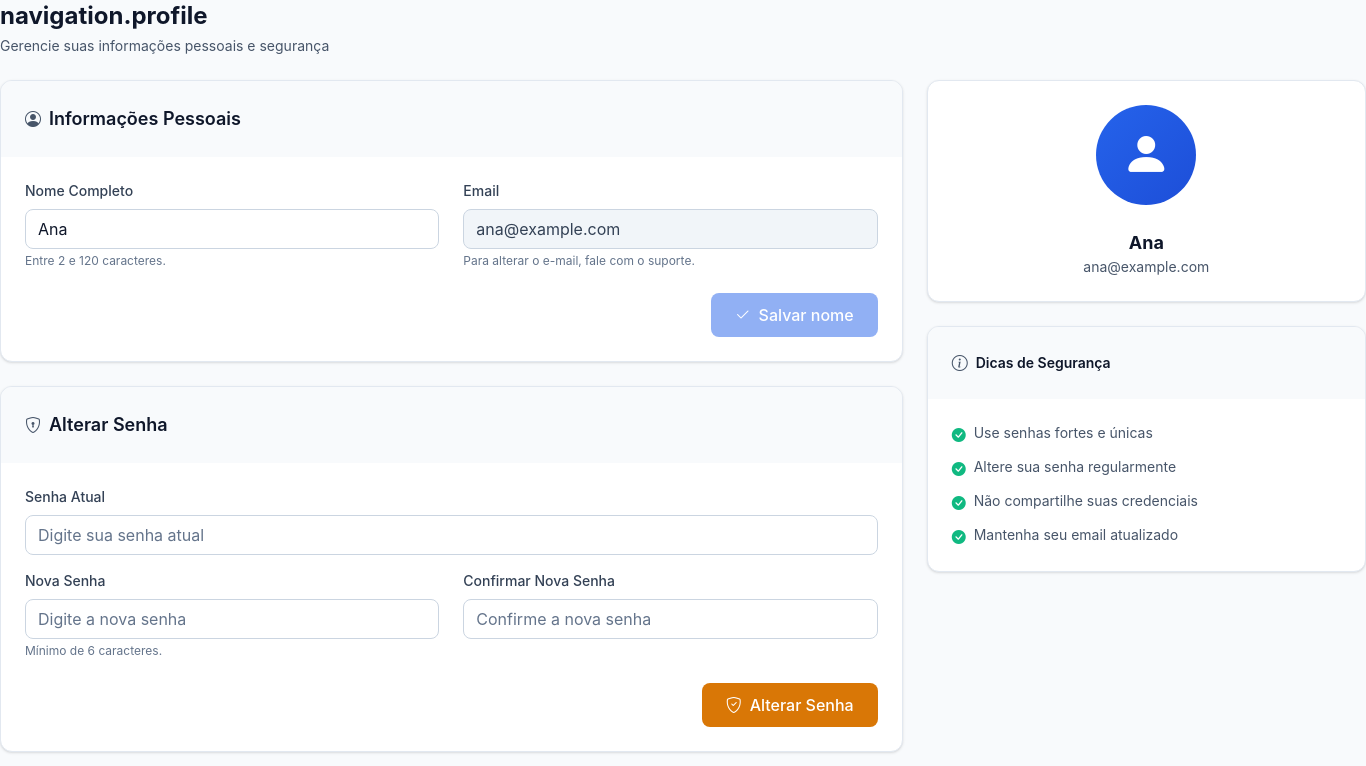
it: Profile › salva o nome e mostra sucesso só após a resposta da API
Replace the text in the field labelled "Nome Completo" with "  Ana Souza " at (232, 229), box top-left (25, 209), bottom-right (439, 249)
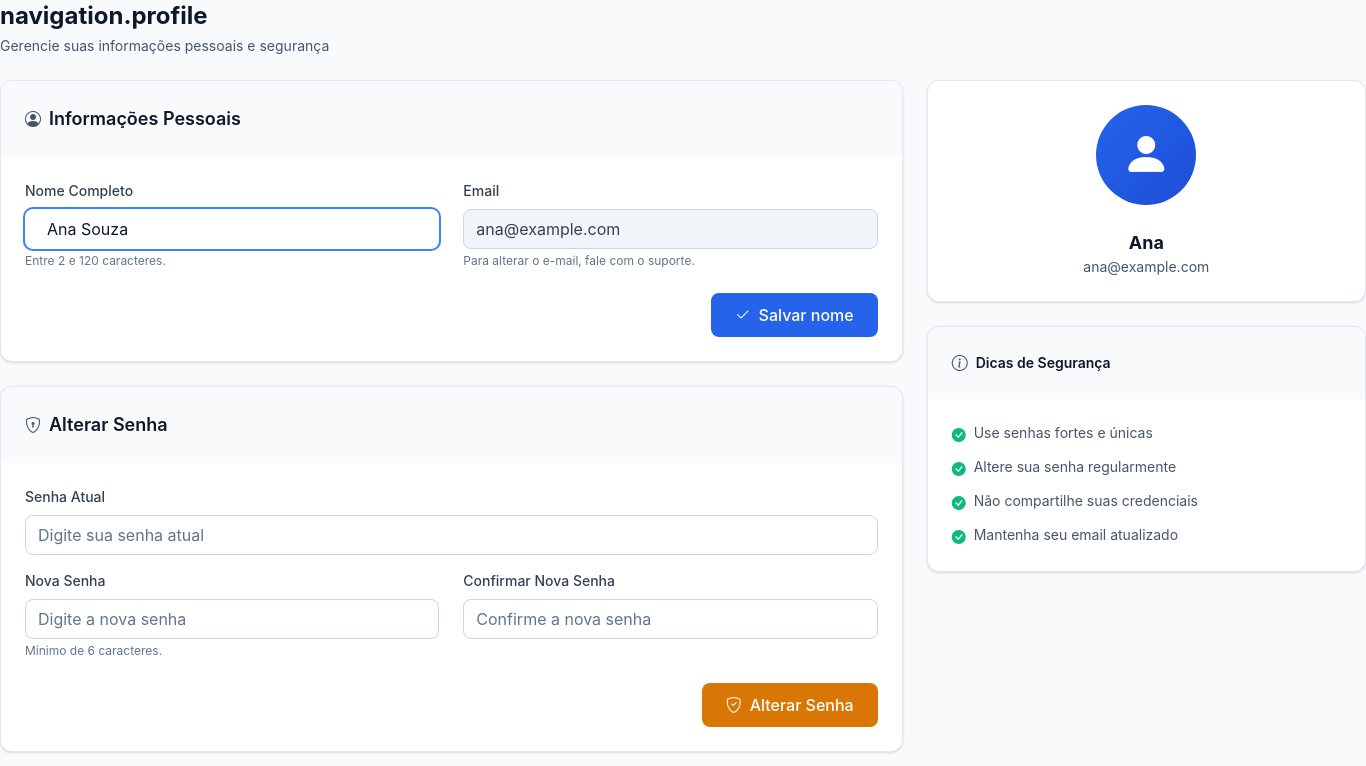
Click the button "Salvar nome" at (794, 315), box top-left (711, 293), bottom-right (878, 337)
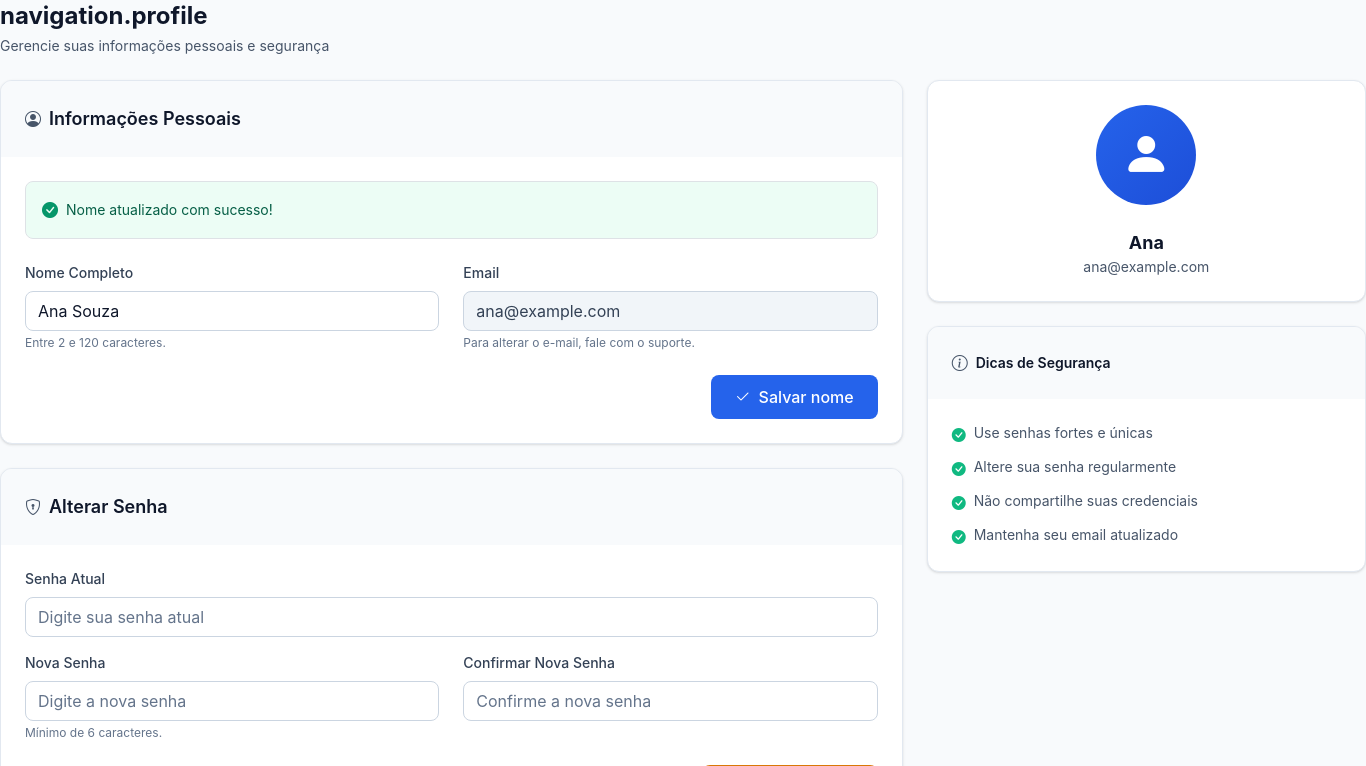
Now the message reads "Nome atualizado com sucesso!", box top-left (66, 201), bottom-right (273, 218)
